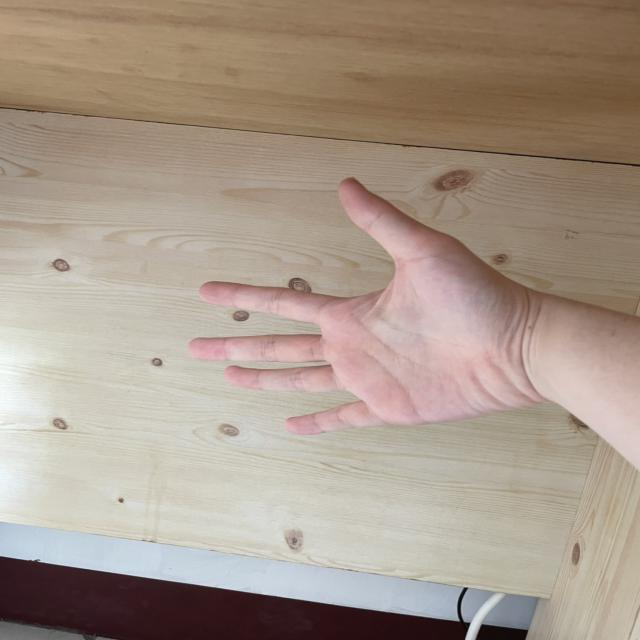no_glove: (166, 162, 580, 472)
